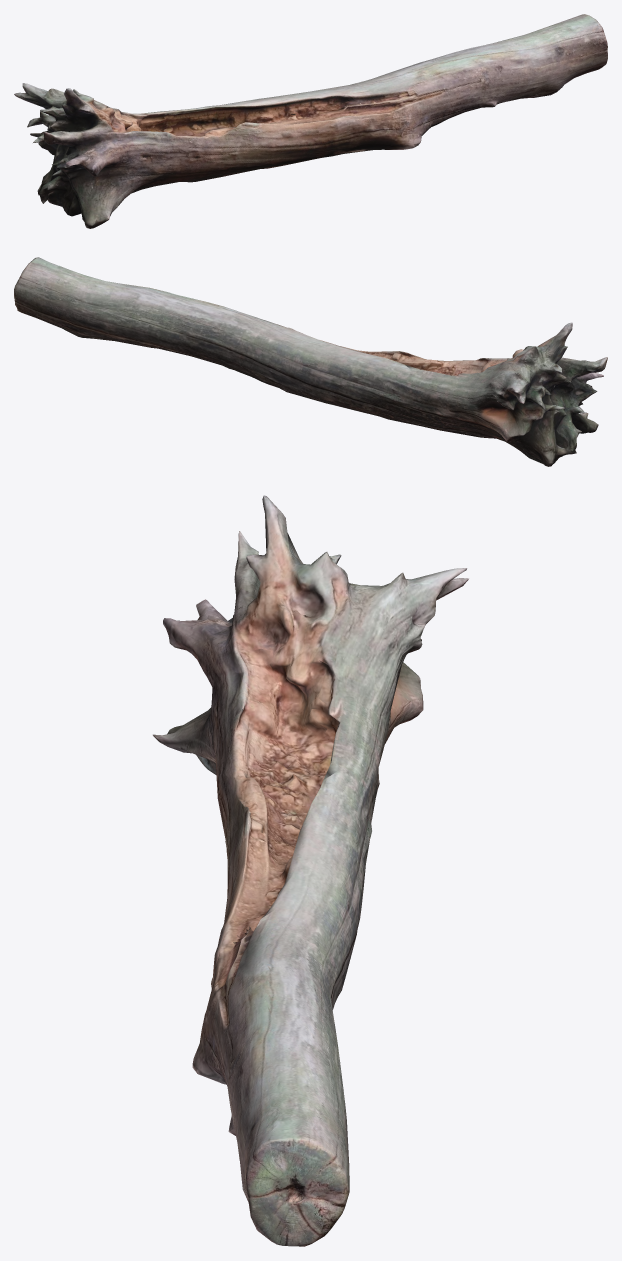
Rendered from log1.glb.
3 views of the same model, one above another, from view 1: azimuth 30°, elevation 25°; view 2: azimuth 150°, elevation 25°; view 3: azimuth 270°, elevation 25° (orthographic). The views are drawn at different scales.
Parts seen in each view (by area): view 1: Object_2; view 2: Object_2; view 3: Object_2.
Boxes of the visible parts, box(x1,y1,x2,y2) form: Object_2: box(14, 14, 607, 228); Object_2: box(14, 257, 607, 466); Object_2: box(153, 495, 468, 1246).
Bounding box in the file's own units: 7 × 1.55 × 1.69.
Materials: 1 (1 with a texture image).
